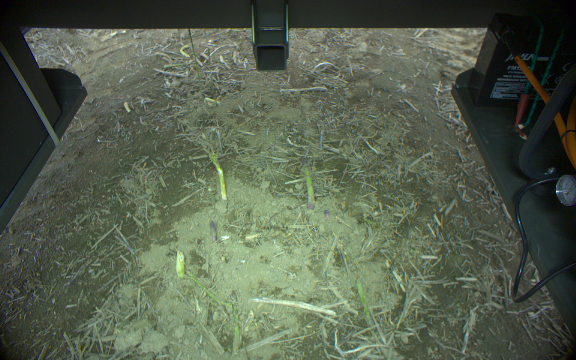aspa: (205, 147, 228, 202), (300, 158, 317, 211), (353, 279, 369, 318), (173, 251, 190, 281), (205, 219, 219, 245)
